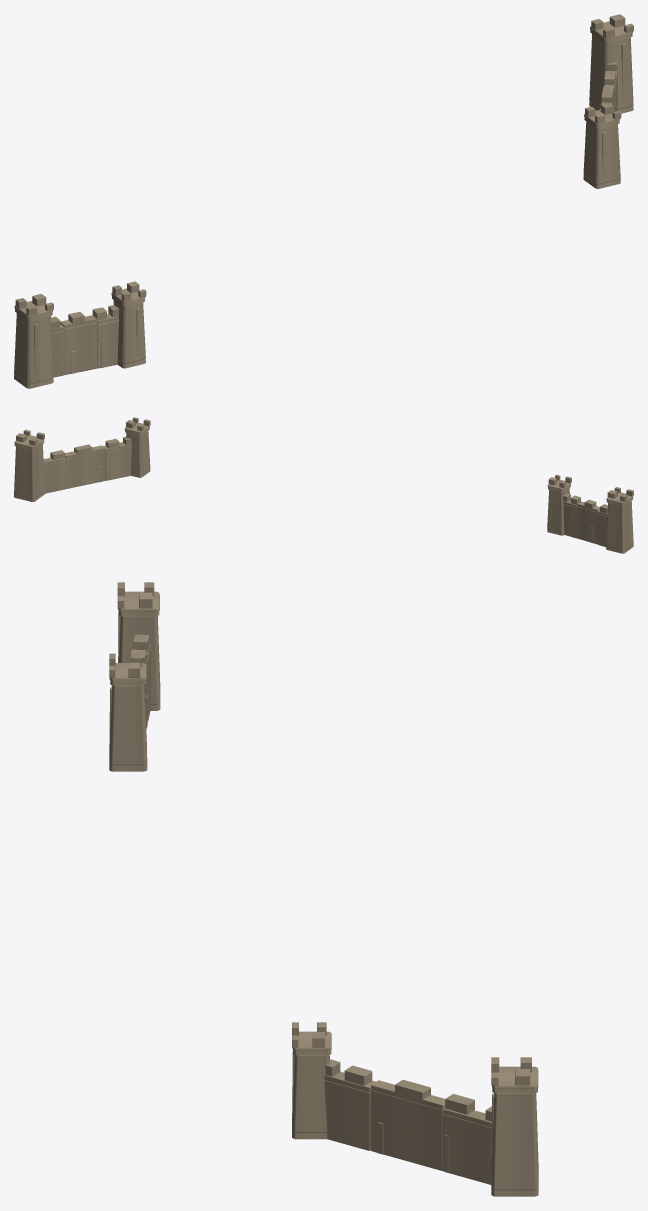
Rendered from WallFamilyV1.glb.
3 views of the same model, one above another, from view 1: azimuth 30°, elevation 25°; view 2: azimuth 150°, elevation 25°; view 3: azimuth 270°, elevation 25° (orthographic). The views are drawn at different scales.
Visible parts, largest first — view 1: WestPartialWall, WestWallTowerA, EastWallTowerB, EastWallTowerA, WestWallTowerB, EastPartialWall; view 2: EastPartialWall, EastWallTowerB, WestPartialWall, WestWallTowerA, EastWallTowerA, WestWallTowerB; view 3: EastPartialWall, EastWallTowerB, WestWallTowerB, EastWallTowerA, WestWallTowerA.
Part boxes in pixels (<box>): WestPartialWall: <box>51,305,119,377</box>; WestWallTowerA: <box>14,294,53,388</box>; EastWallTowerB: <box>589,14,633,113</box>; EastWallTowerA: <box>583,102,621,188</box>; WestWallTowerB: <box>111,281,146,368</box>; EastPartialWall: <box>599,61,617,111</box>; EastPartialWall: <box>43,436,131,493</box>; EastWallTowerB: <box>14,429,44,501</box>; WestPartialWall: <box>563,493,607,546</box>; WestWallTowerA: <box>606,487,633,553</box>; EastWallTowerA: <box>124,417,150,477</box>; WestWallTowerB: <box>547,474,571,535</box>; EastPartialWall: <box>324,1059,491,1184</box>; EastWallTowerB: <box>491,1057,538,1196</box>; WestWallTowerB: <box>109,653,147,771</box>; EastWallTowerA: <box>292,1022,331,1139</box>; WestWallTowerA: <box>117,582,160,710</box>.
Size of the model in its own units: 50.21 by 5.6 by 18.1.
Materials: 5 (5 with a texture image).
